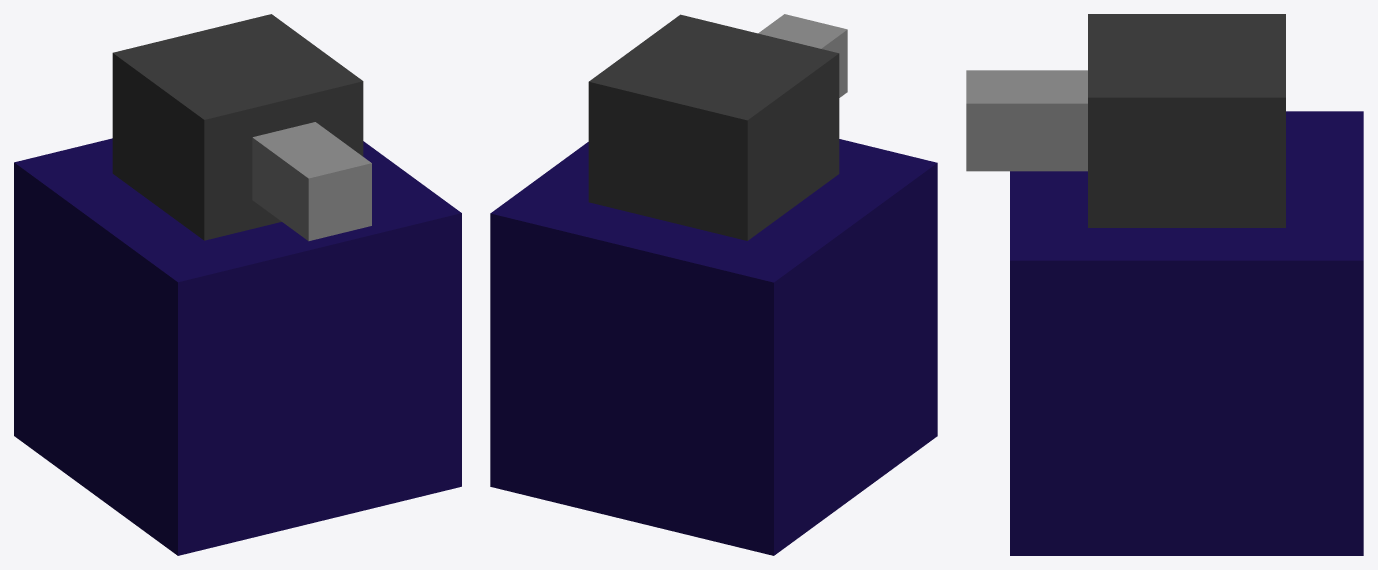
The model's file is Dior.fbx.
The picture shows the model from 3 angles, left to right: view 1: azimuth 30°, elevation 25°; view 2: azimuth 150°, elevation 25°; view 3: azimuth 270°, elevation 25°; orthographic projection. The views are drawn at different scales.
Parts seen in each view (by area): view 1: Dior Sauvage; view 2: Dior Sauvage; view 3: Dior Sauvage.
Part boxes in pixels (x1,y1,x2,y2): Dior Sauvage: (14,14,461,555); Dior Sauvage: (490,14,937,555); Dior Sauvage: (966,14,1363,555).
Size of the model in its own units: 200 by 266 by 225.
